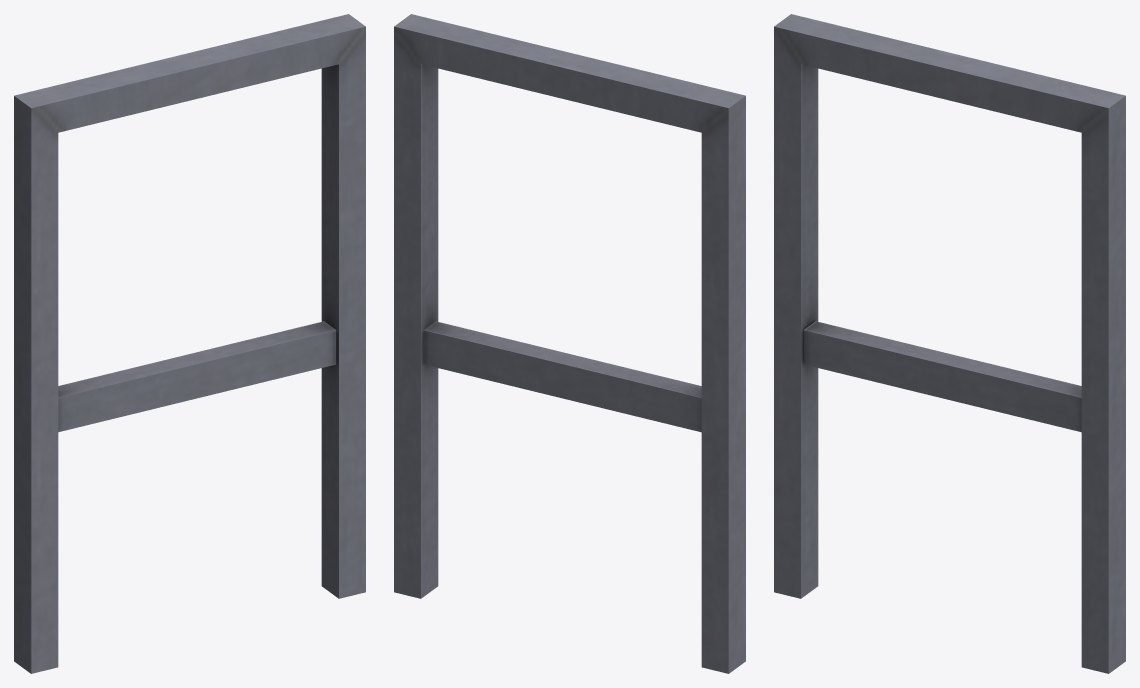
The model's file is pipe_support_small.FBX.
The picture shows the model from 3 angles, left to right: view 1: azimuth 30°, elevation 25°; view 2: azimuth 150°, elevation 25°; view 3: azimuth 330°, elevation 25°; orthographic projection.
Parts seen in each view (by area): view 1: Box002; view 2: Box002; view 3: Box002.
Part boxes in pixels (x1,y1,x2,y2): Box002: (14, 14, 365, 673); Box002: (394, 14, 745, 673); Box002: (774, 14, 1125, 673).
Bounding box in the file's own units: 28.89 × 46.66 × 2.57.
1 material, 1 textured.
